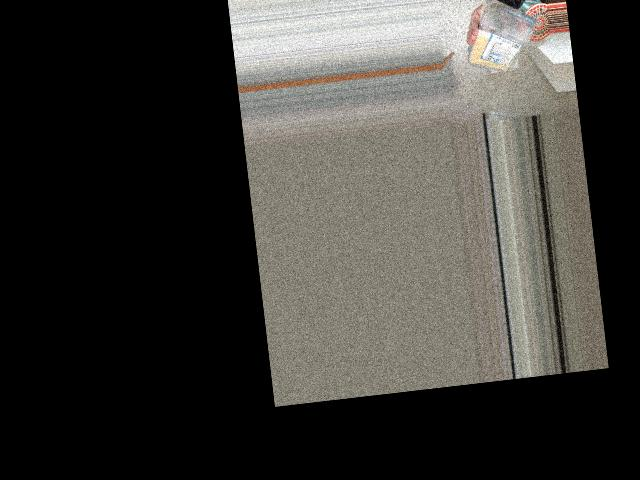cheese: (470, 2, 543, 79)
